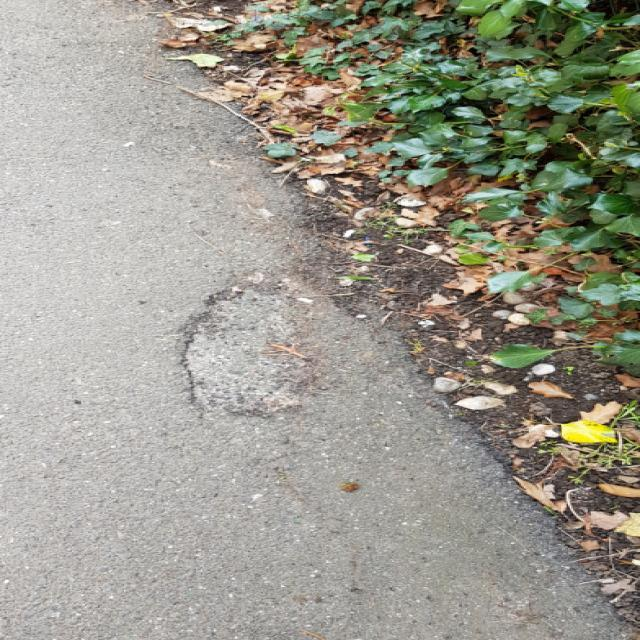pothole: (173, 280, 305, 422)
